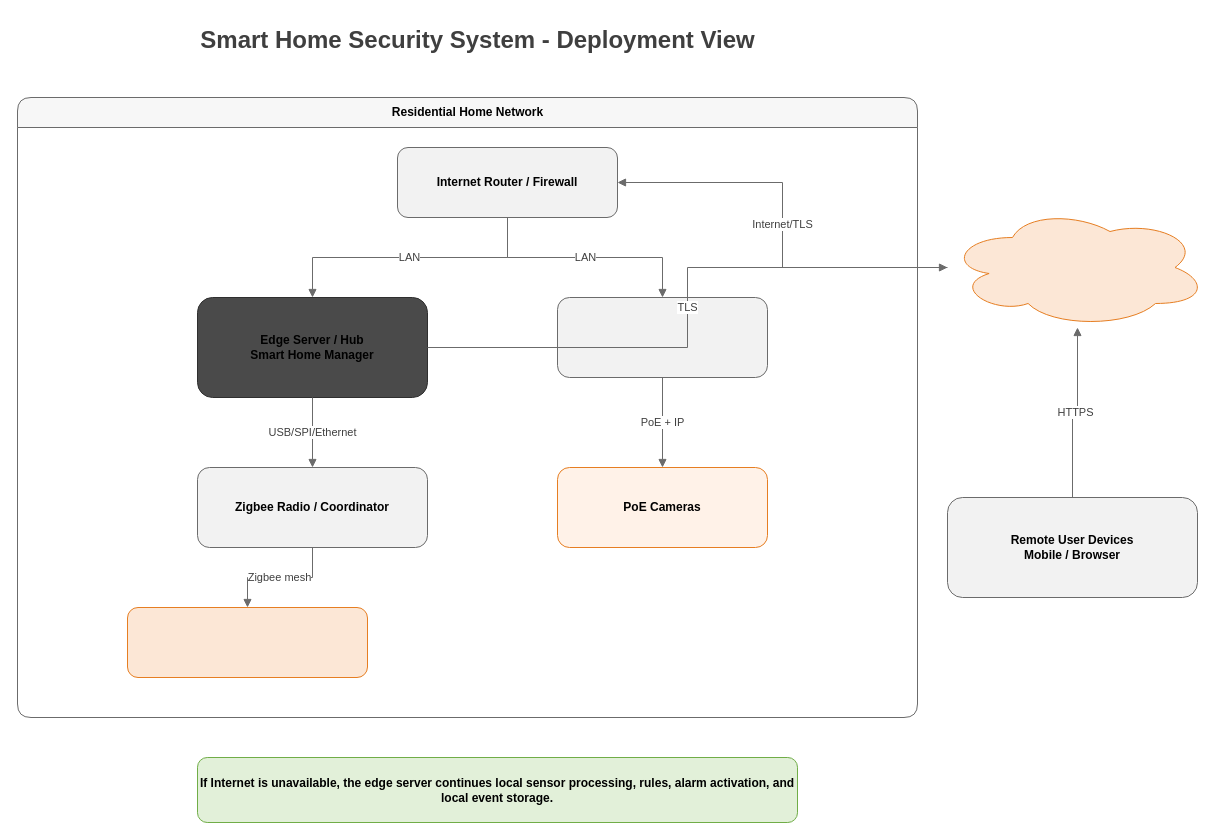
This 1225x840 diagram has some shape labels left out. The centre of each missing label's shape, as x and y in pixels:
"Cloud Provider Remote API / Notifications / Backup" belongs at (1077,267).
"PoE Ethernet Switch" belongs at (662,337).
"Sensors + Controllers" belongs at (247,642).
